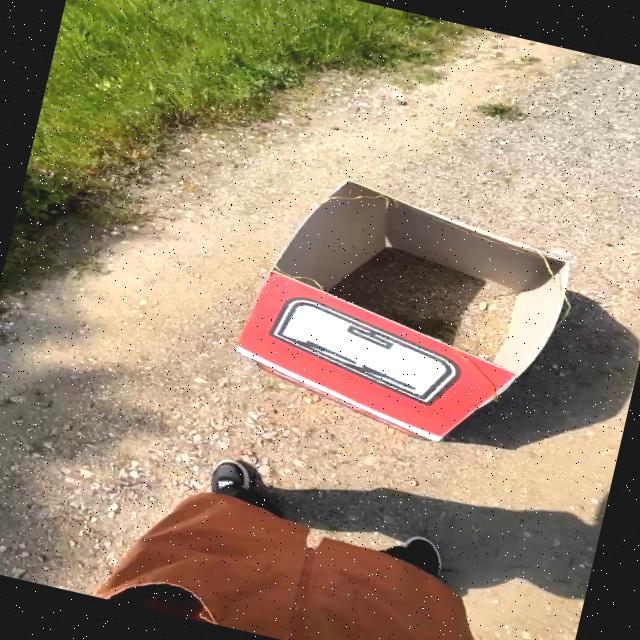red_car: (196, 142, 612, 486)
